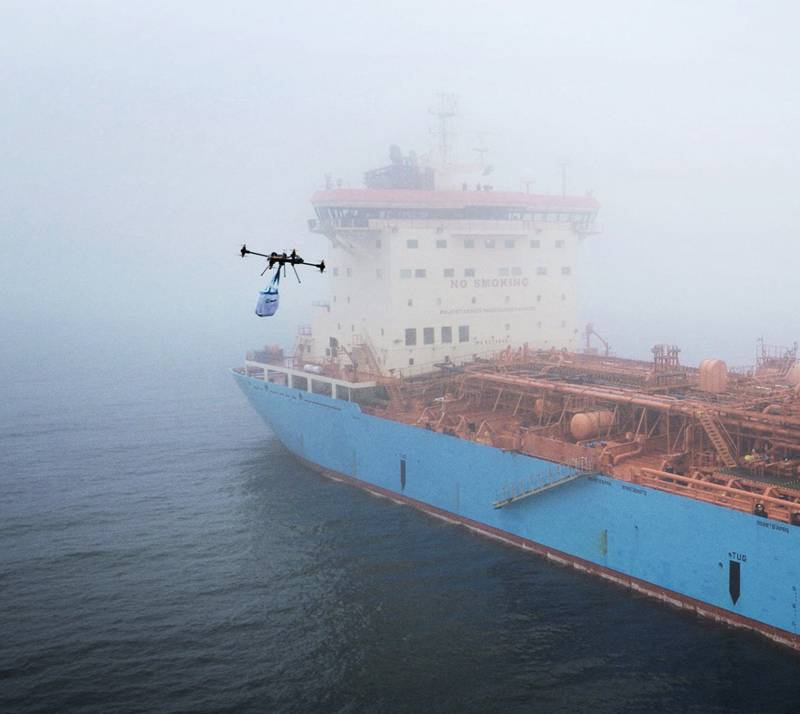drone: (233, 240, 336, 289)
